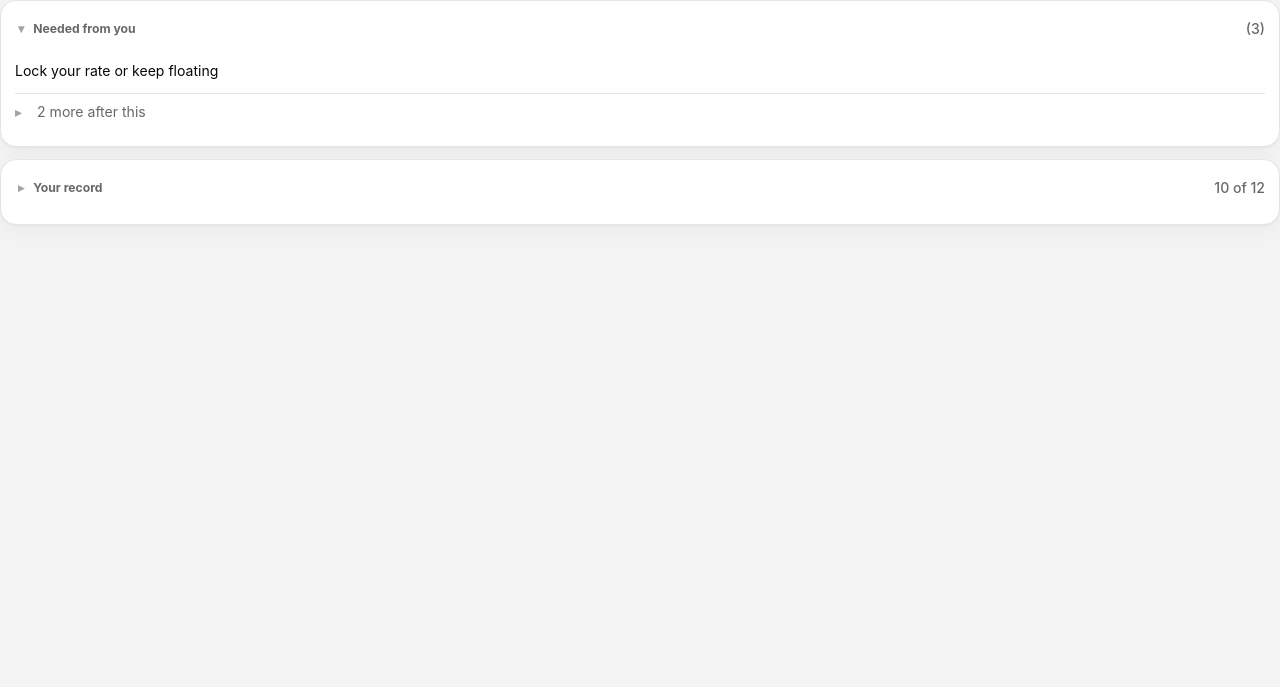
32.4 grouped LE package (T3, T4) › the Thread renders a single grouped message: 'Your Loan Estimate and 2 related document(s).' as one reference with a chip per document; on the rail each documen
Later steps or results of the test are not shown.
Click the button "▸ Your record" at [59, 188], box [15,172,102,204]
(page scrolled)
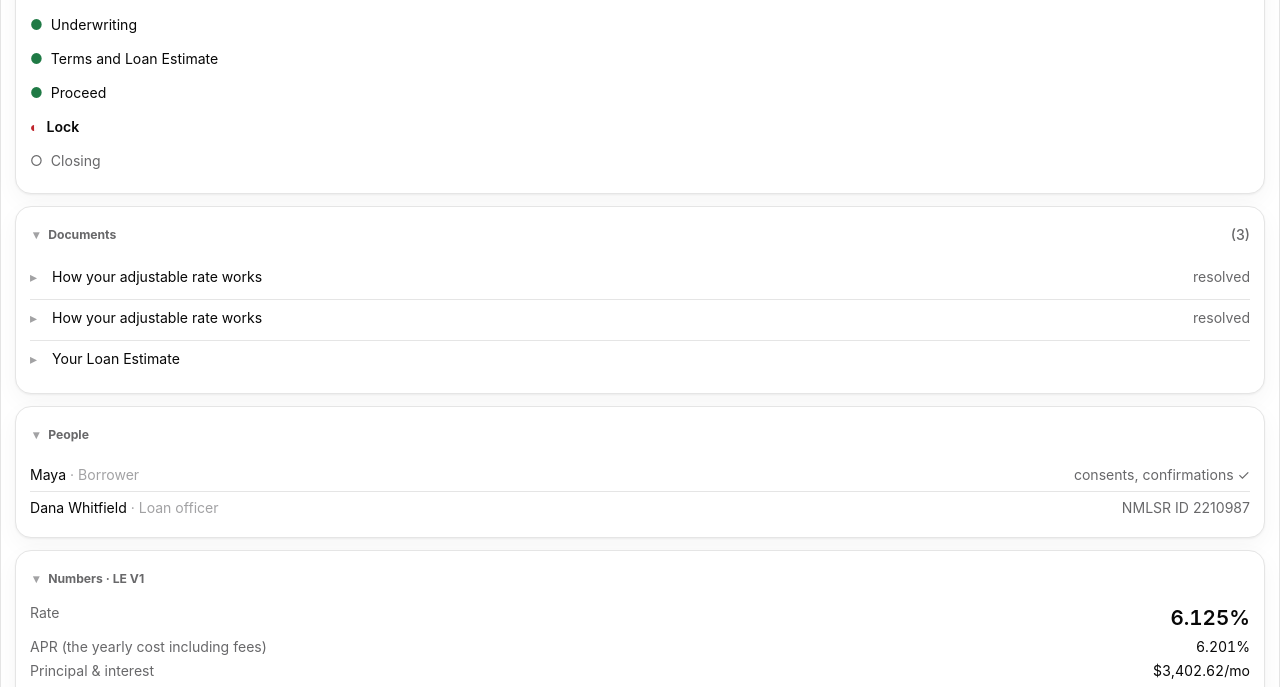
Click the button "▸ Your Loan Estimate" at [116, 358], box [30,341,1250,381]
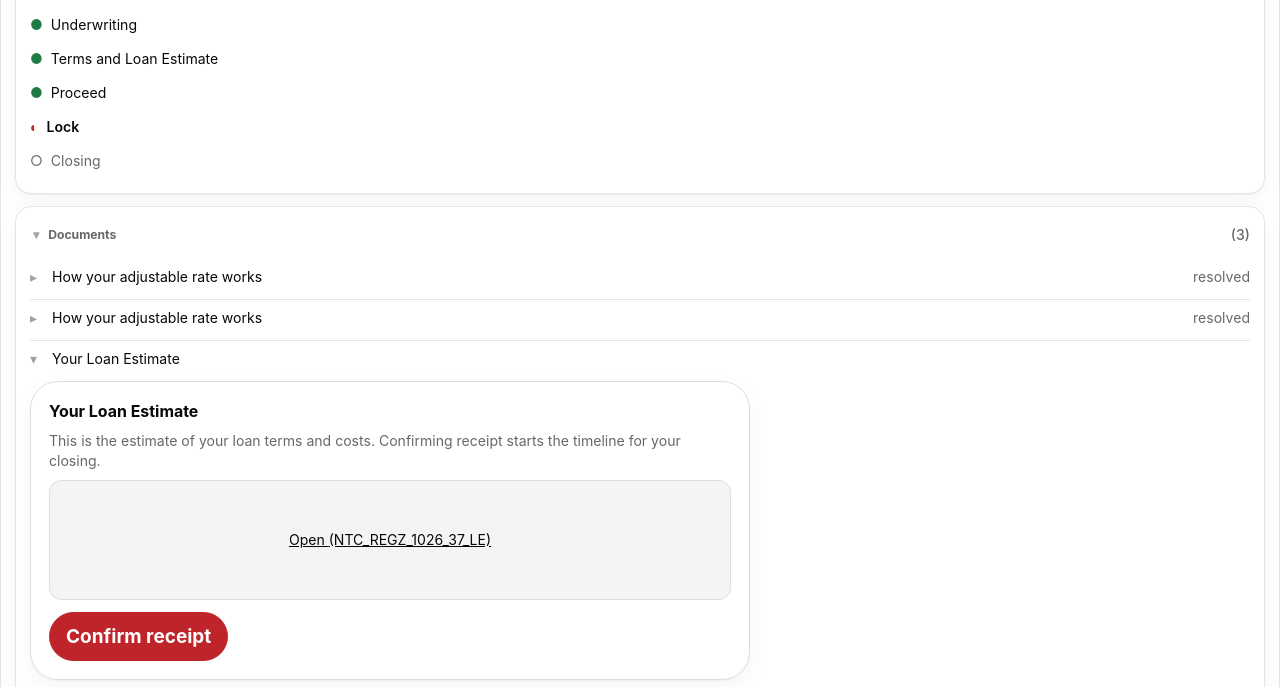
Click the 2nd button "▸ How your adjustable rate works resolved" at [157, 317], box [30,300,1250,340]
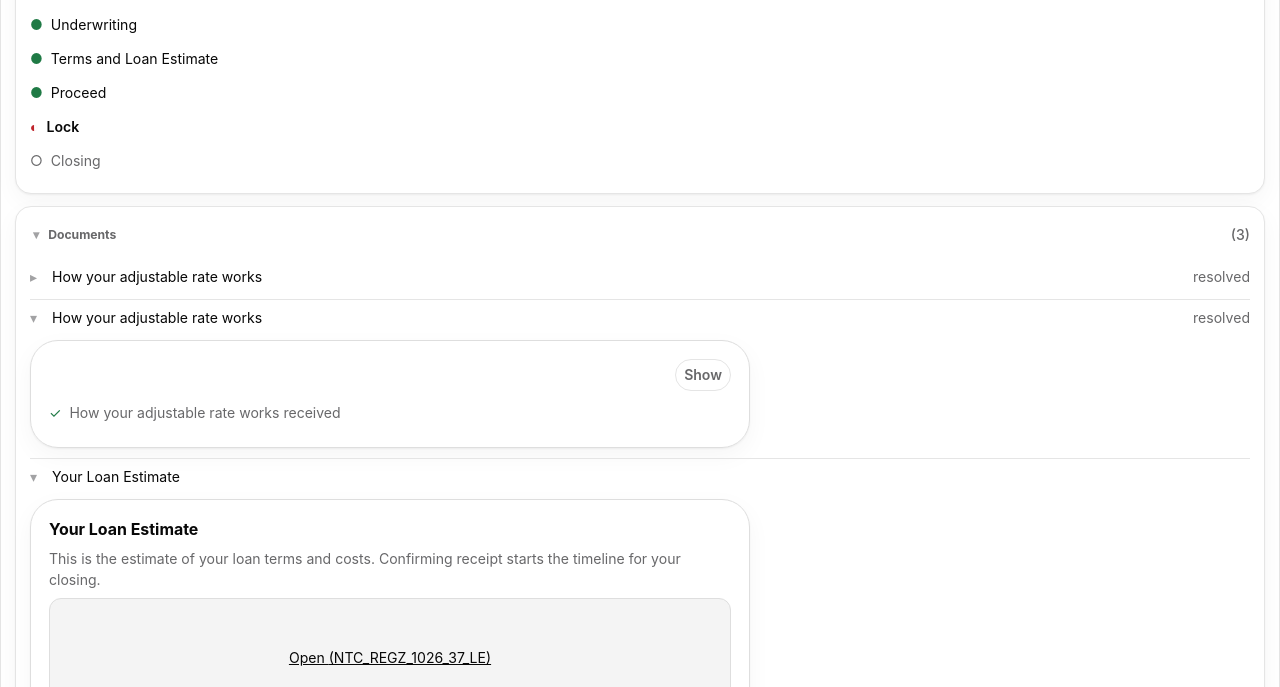
Click the button "▸ How your adjustable rate works resolved" at [157, 276], box [30,259,1250,299]
(page scrolled)
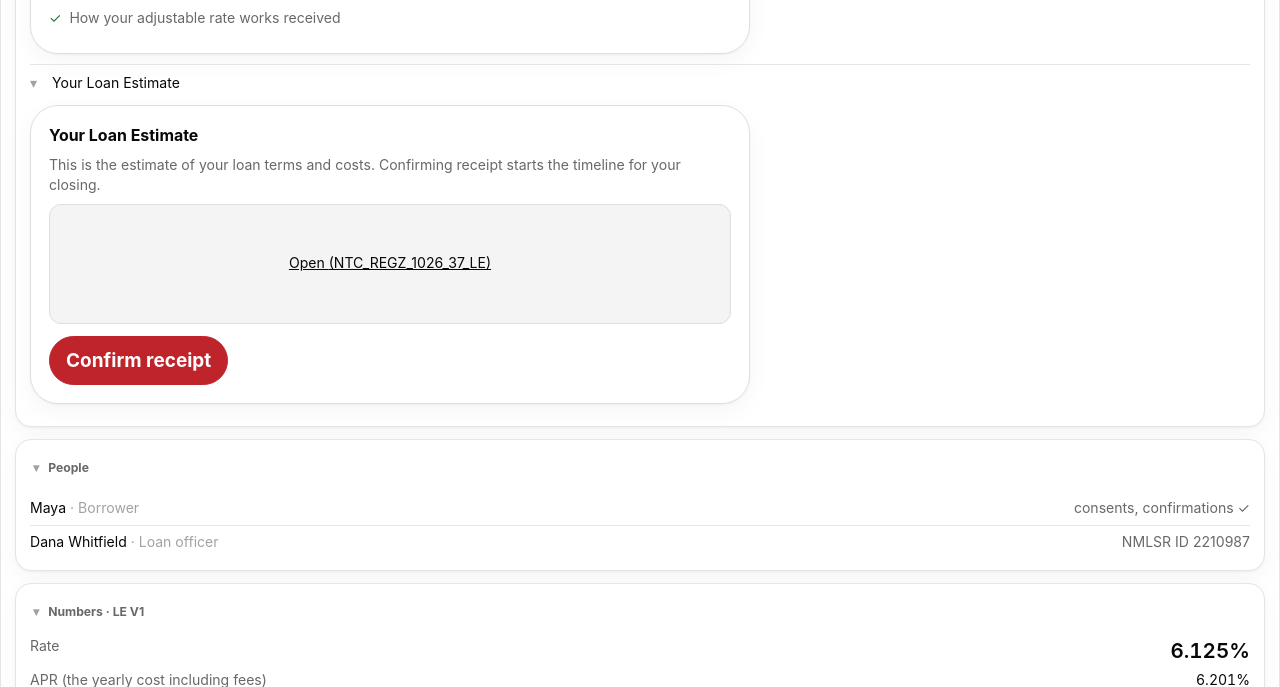
Expected: the button "Confirm receipt" is shown, [49,336,228,385]
